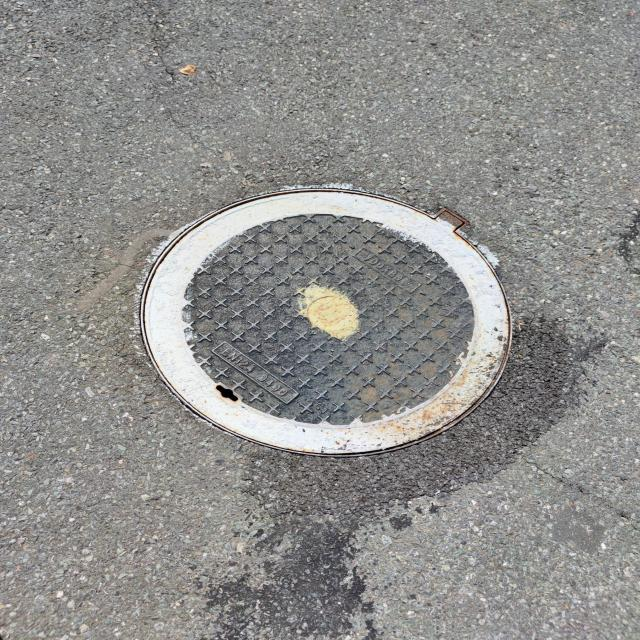Good: (136, 181, 528, 463)
